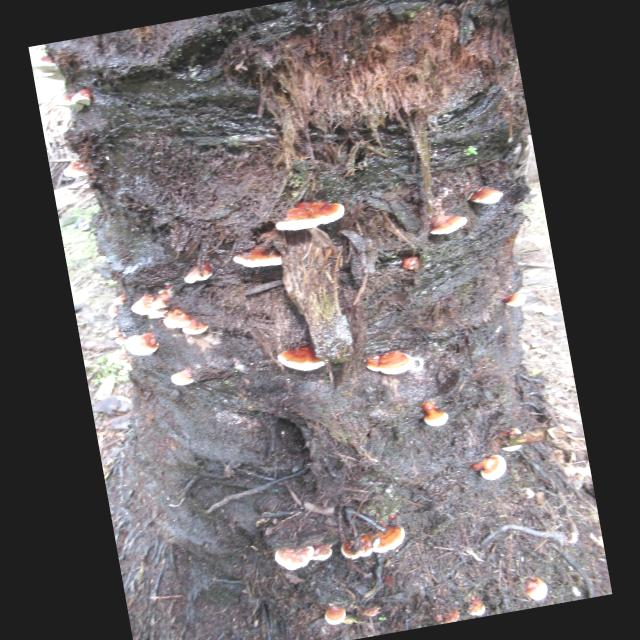ganoderma: (272, 195, 347, 236), (365, 345, 416, 380), (277, 344, 328, 378), (231, 242, 283, 274), (273, 544, 320, 575), (368, 524, 410, 558), (130, 290, 173, 323), (52, 88, 97, 117), (124, 331, 162, 361), (429, 211, 470, 238), (31, 52, 63, 85), (420, 398, 451, 430), (340, 534, 375, 562), (181, 260, 216, 286), (469, 185, 506, 209), (498, 425, 527, 454), (478, 455, 509, 482), (162, 306, 194, 332), (523, 574, 550, 604), (181, 316, 212, 339), (62, 158, 91, 182), (463, 594, 489, 620), (324, 604, 349, 628), (170, 366, 197, 388), (309, 543, 336, 565), (433, 607, 463, 626), (501, 292, 529, 311), (401, 255, 424, 274), (112, 294, 130, 308), (108, 304, 120, 320), (106, 328, 122, 340), (116, 353, 129, 365), (115, 336, 127, 349)
